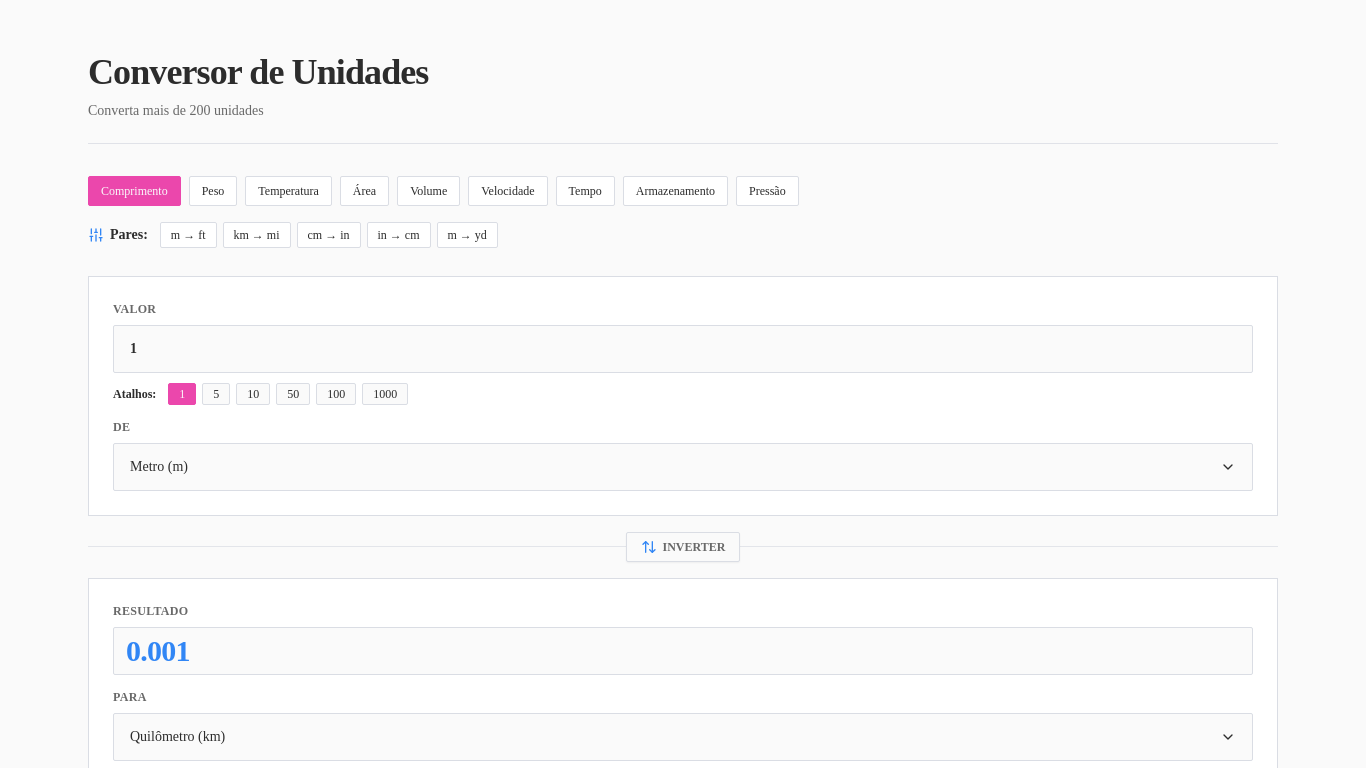
Scenario: UnitConverterClient › updates converted result when input value changes
Replace the text in the number field labelled "Valor" with "1000" at (683, 349), box [113,325,1253,373]
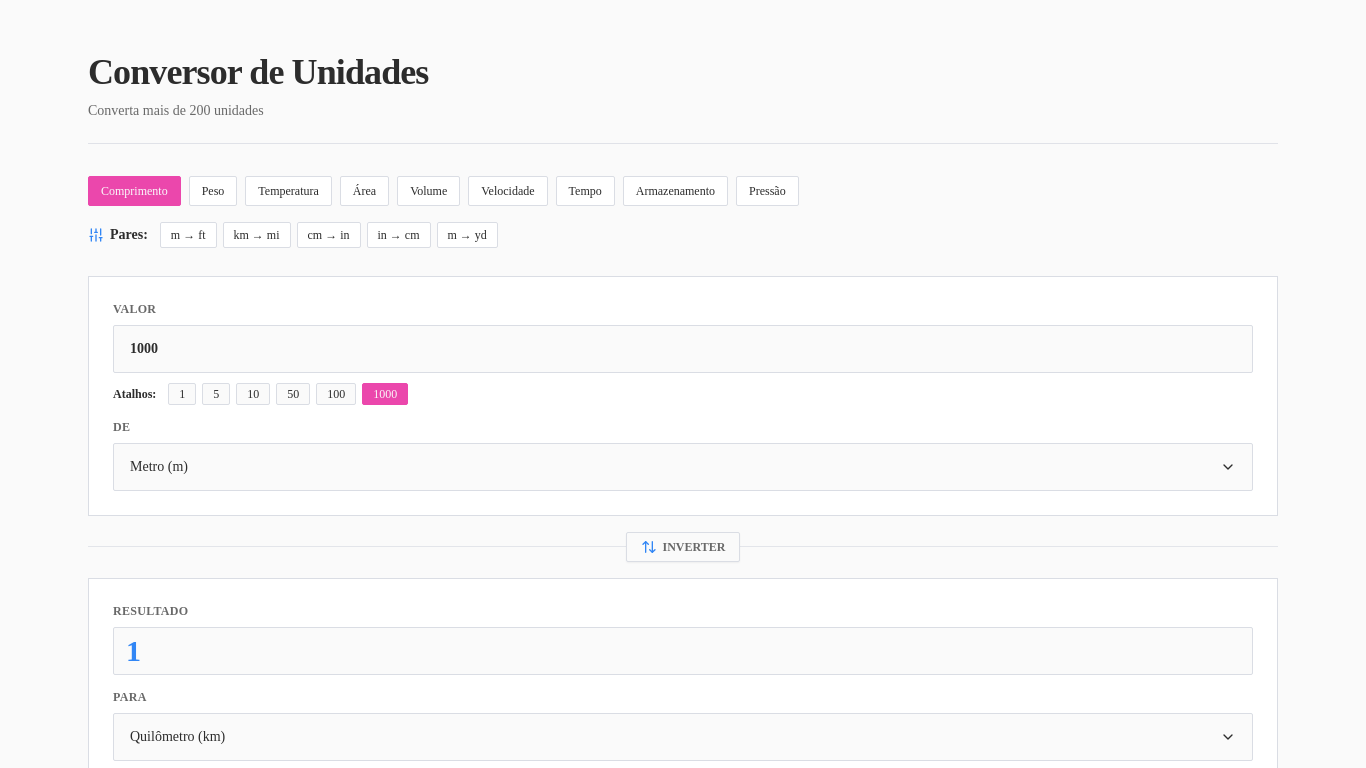
Now the text with test id "conversion-result" reads "1", box [126,634,140,667]
